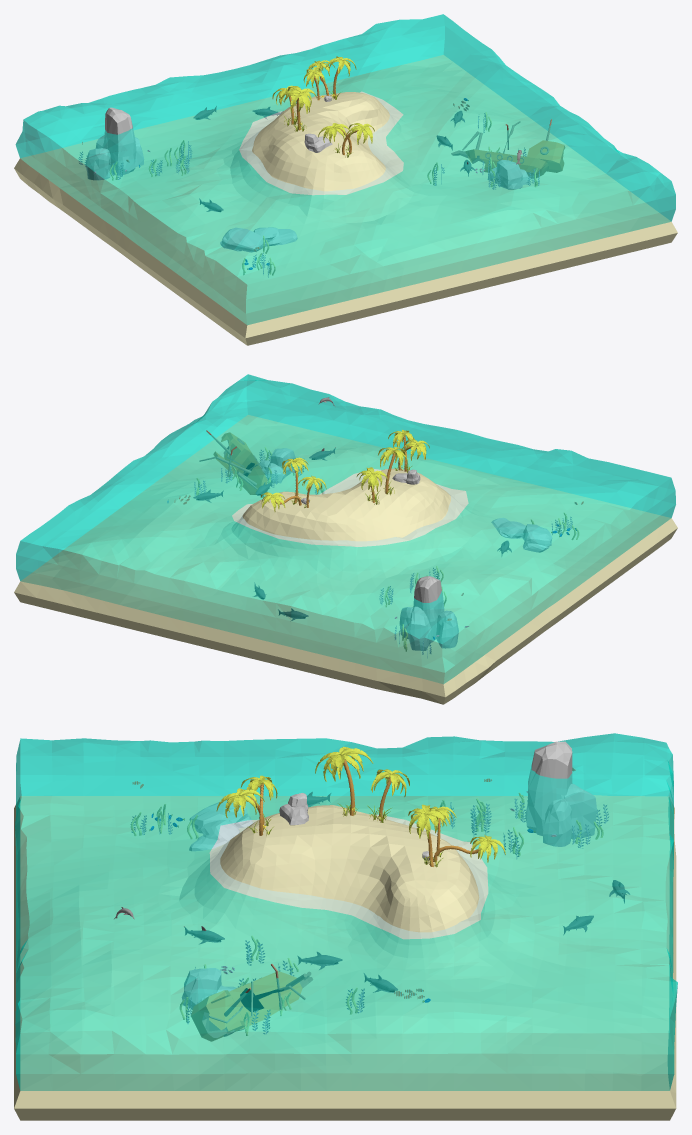
The model's file is low_poly_island.glb.
3 renders of one model, top to bottom at view 1: azimuth 30°, elevation 25°; view 2: azimuth 150°, elevation 25°; view 3: azimuth 270°, elevation 25°, orthographic. The views are drawn at different scales.
Visible parts, largest first — view 1: BE1-material, YW1-material, WE1-material (×4), WE2-material, BN-material, GN1-material (×2), BN2-material; view 2: BE1-material, YW1-material, WE1-material (×4), WE2-material, GN1-material (×2), BN-material, BN2-material; view 3: BE1-material, YW1-material, WE1-material (×5), WE2-material, GN1-material (×3), BN-material, BN2-material.
Part boxes in pixels (x1=…): BE1-material: x1=15, y1=14, x2=675, y2=325; YW1-material: x1=14, y1=55, x2=677, y2=345; WE1-material (×4): x1=85, y1=107, x2=529, y2=252; WE2-material: x1=239, y1=91, x2=403, y2=195; BN-material: x1=465, y1=140, x2=565, y2=177; GN1-material (×2): x1=272, y1=56, x2=356, y2=113; BN2-material: x1=451, y1=119, x2=551, y2=178; BE1-material: x1=16, y1=374, x2=675, y2=684; YW1-material: x1=14, y1=415, x2=677, y2=704; WE1-material (×4): x1=259, y1=448, x2=552, y2=650; WE2-material: x1=232, y1=469, x2=468, y2=546; GN1-material (×2): x1=260, y1=447, x2=407, y2=511; BN-material: x1=213, y1=432, x2=267, y2=494; BN2-material: x1=199, y1=430, x2=264, y2=497; BE1-material: x1=15, y1=733, x2=677, y2=1090; YW1-material: x1=14, y1=795, x2=676, y2=1120; WE1-material (×5): x1=182, y1=741, x2=596, y2=1009; WE2-material: x1=209, y1=814, x2=488, y2=939; GN1-material (×3): x1=216, y1=746, x2=505, y2=862; BN-material: x1=191, y1=971, x2=302, y2=1041; BN2-material: x1=202, y1=964, x2=312, y2=1037.
Bounding box in the file's own units: 7.84 × 2.29 × 7.26.
